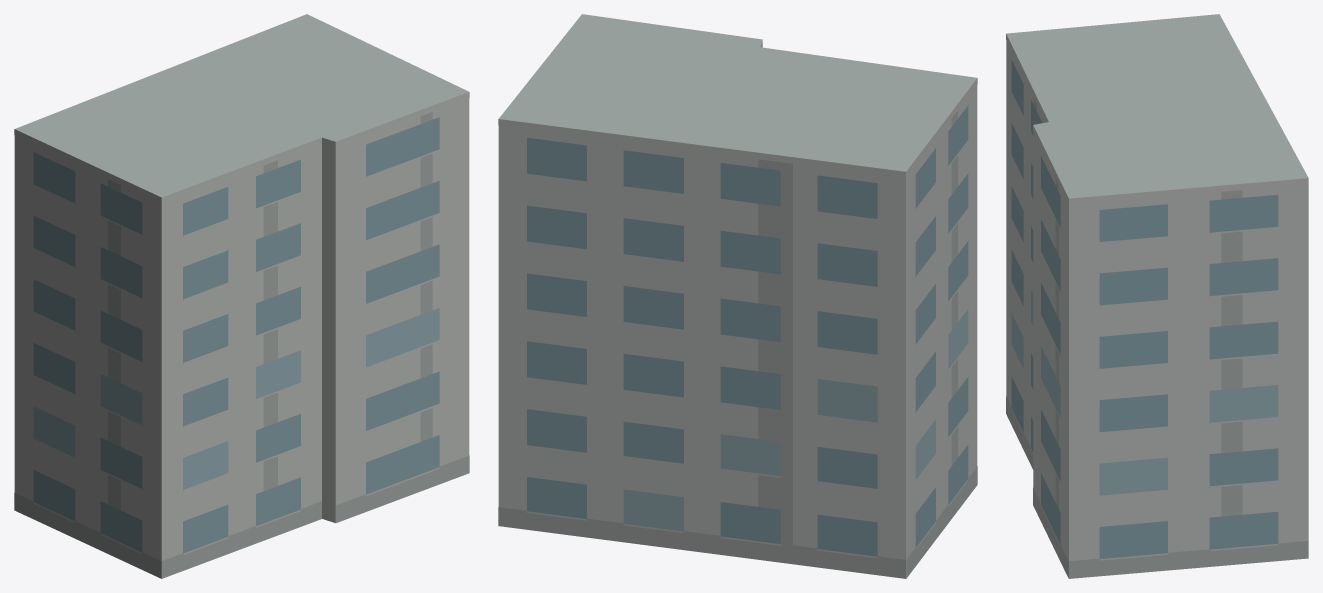
File: survey-upis-32568244.glb
3 views of the same model, side by side, from view 1: azimuth 30°, elevation 25°; view 2: azimuth 150°, elevation 25°; view 3: azimuth 270°, elevation 25° (orthographic). The views are drawn at different scales.
Visible parts, largest first — view 1: survey-upis-32568244.tmp; view 2: survey-upis-32568244.tmp; view 3: survey-upis-32568244.tmp.
Boxes of the visible parts, x1,y1,x2,y2 form: survey-upis-32568244.tmp: (14, 14, 469, 578); survey-upis-32568244.tmp: (498, 14, 977, 578); survey-upis-32568244.tmp: (1006, 14, 1308, 578).
Size of the model in its own units: 15.52 by 14.9 by 10.75.
